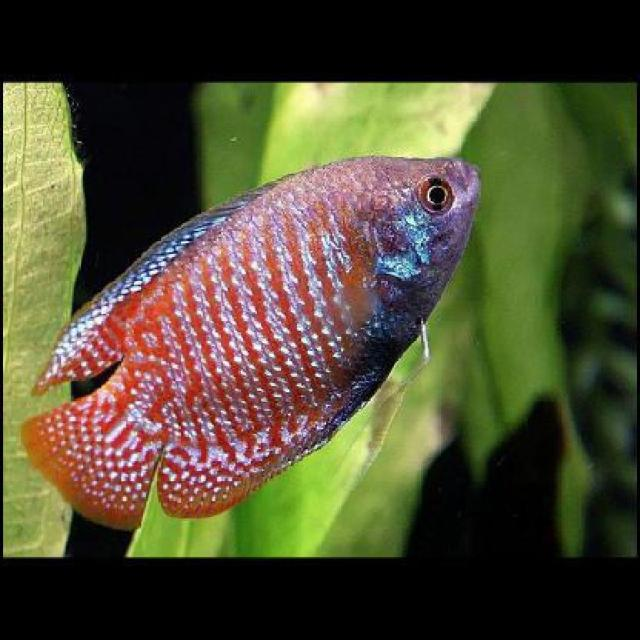Gourami: (27, 154, 484, 520)
